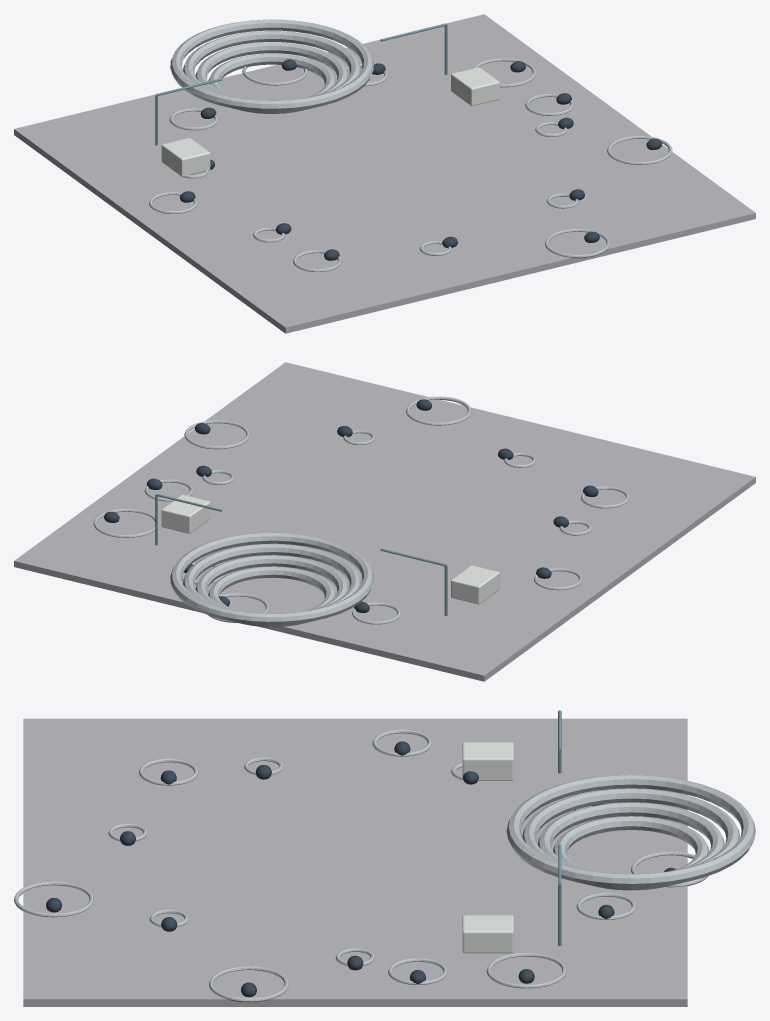
Rendered from journey_crater.glb.
The picture shows the model from 3 angles, top to bottom: view 1: azimuth 30°, elevation 25°; view 2: azimuth 150°, elevation 25°; view 3: azimuth 270°, elevation 25°; orthographic projection. The views are drawn at different scales.
Parts seen in each view (by area): view 1: Scenery_Journey Regolith.001, Scenery_Journey Limestone.004, Scenery_Journey Ivory.007, Scenery_Journey Graphite.005, Scenery_Journey Steel.006; view 2: Scenery_Journey Regolith.001, Scenery_Journey Limestone.004, Scenery_Journey Ivory.007, Scenery_Journey Graphite.005, Scenery_Journey Steel.006; view 3: Scenery_Journey Regolith.001, Scenery_Journey Limestone.004, Scenery_Journey Ivory.007, Scenery_Journey Graphite.005, Scenery_Journey Steel.006.
Boxes of the visible parts, x1,y1,x2,y2 form: Scenery_Journey Regolith.001: (14,14,755,333); Scenery_Journey Limestone.004: (149,19,672,271); Scenery_Journey Ivory.007: (161,67,499,176); Scenery_Journey Graphite.005: (179,59,661,260); Scenery_Journey Steel.006: (155,23,447,145); Scenery_Journey Regolith.001: (14,362,755,681); Scenery_Journey Limestone.004: (93,396,629,627); Scenery_Journey Ivory.007: (161,494,499,604); Scenery_Journey Graphite.005: (104,399,598,612); Scenery_Journey Steel.006: (155,493,447,615); Scenery_Journey Regolith.001: (23,718,687,1006); Scenery_Journey Limestone.004: (14,729,755,1002); Scenery_Journey Ivory.007: (462,742,513,953); Scenery_Journey Graphite.005: (46,741,675,997); Scenery_Journey Steel.006: (558,710,561,946).
Size of the model in its own units: 65.62 by 7.55 by 72.6.
